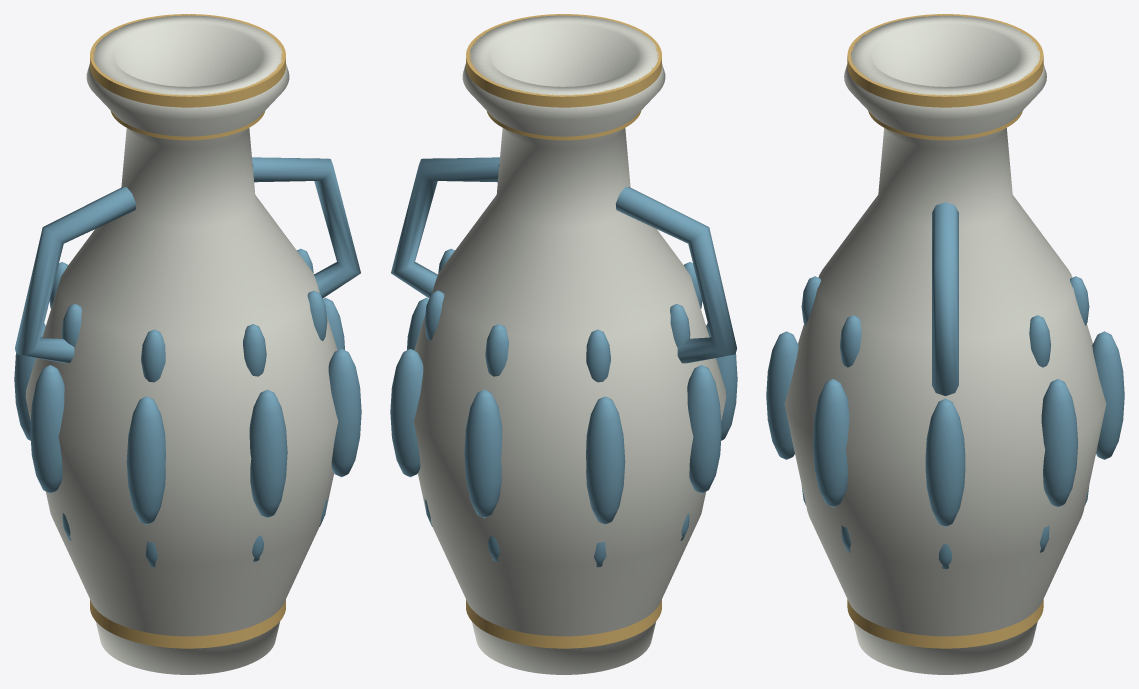
File: loot_antique_vase.glb
3 views of the same model, side by side, from view 1: azimuth 30°, elevation 25°; view 2: azimuth 150°, elevation 25°; view 3: azimuth 270°, elevation 25° (orthographic).
Visible parts, largest first — view 1: loot_antique_vase; view 2: loot_antique_vase; view 3: loot_antique_vase.
Boxes of the visible parts, x1,y1,x2,y2 form: loot_antique_vase: (14,14,361,674); loot_antique_vase: (390,14,737,674); loot_antique_vase: (766,14,1124,674).
Bounding box in the file's own units: 0.1171 × 0.19 × 0.106.
